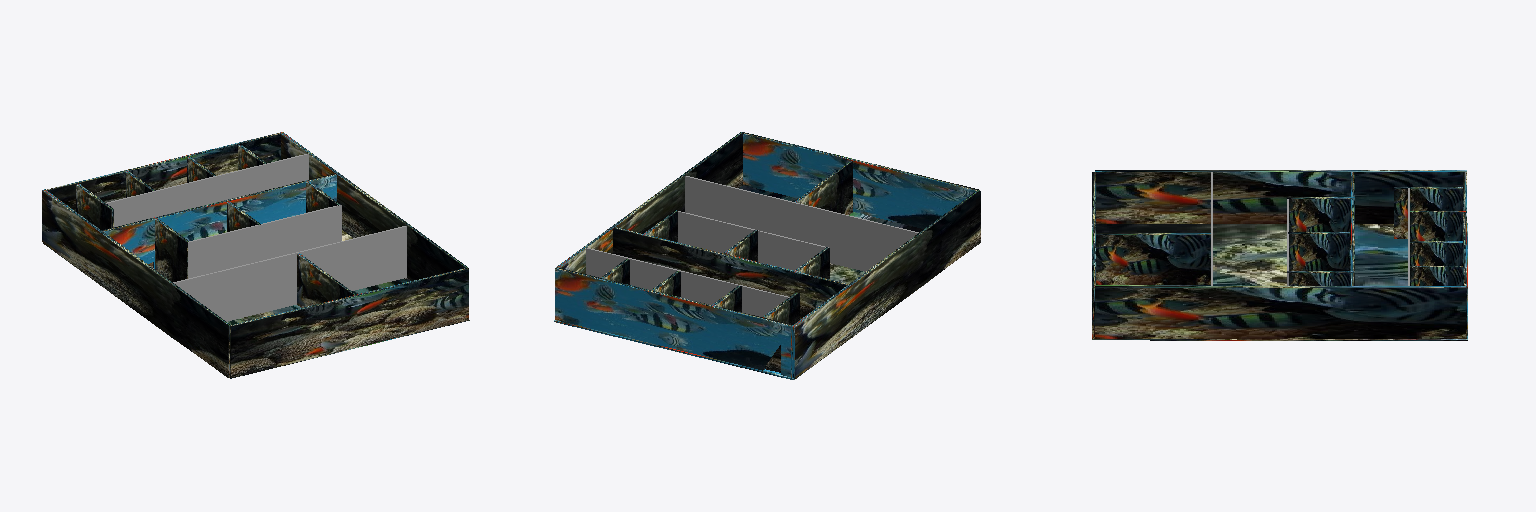
3 renders of one model, left to right at view 1: azimuth 30°, elevation 25°; view 2: azimuth 150°, elevation 25°; view 3: azimuth 270°, elevation 25°, orthographic.
Parts seen in each view (by area): view 1: pCube17, pCube2, pCube20, pCube19, pCube12, pCube21, pCube3, pCube9, pCube18, pCube14, pCube6, pCube1 (+2 smaller); view 2: pCube9, pCube2, pCube17, pCube20, pCube12, pCube3, pCube21, pCube19, pCube1, pCube18, pCube6, pCube14 (+2 smaller); view 3: pCube3, pCube2, pCube1, pCube18, pCube16, pCube14, pCube6, pCube7, pCube13, pCube8, pCube15, pCube17.
Part boxes in pixels (bbox=[...]): pCube17: bbox=[230, 268, 468, 377]; pCube2: bbox=[42, 189, 230, 377]; pCube20: bbox=[173, 226, 406, 321]; pCube19: bbox=[188, 205, 341, 278]; pCube12: bbox=[102, 174, 336, 268]; pCube21: bbox=[105, 154, 308, 226]; pCube3: bbox=[280, 132, 468, 280]; pCube9: bbox=[47, 133, 280, 210]; pCube18: bbox=[297, 253, 355, 307]; pCube14: bbox=[153, 217, 188, 281]; pCube6: bbox=[76, 184, 113, 229]; pCube1: bbox=[43, 230, 469, 378]; pCube9: bbox=[555, 268, 791, 376]; pCube2: bbox=[791, 190, 980, 378]; pCube17: bbox=[743, 132, 978, 228]; pCube20: bbox=[685, 176, 918, 271]; pCube12: bbox=[613, 227, 847, 319]; pCube3: bbox=[555, 132, 743, 273]; pCube21: bbox=[586, 248, 789, 316]; pCube19: bbox=[678, 211, 828, 270]; pCube1: bbox=[554, 185, 944, 379]; pCube18: bbox=[795, 161, 852, 214]; pCube6: bbox=[763, 292, 799, 369]; pCube14: bbox=[794, 247, 829, 278]; pCube3: bbox=[1095, 286, 1465, 338]; pCube2: bbox=[1095, 170, 1466, 223]; pCube1: bbox=[1092, 223, 1467, 340]; pCube18: bbox=[1096, 233, 1210, 284]; pCube16: bbox=[1288, 232, 1349, 270]; pCube14: bbox=[1287, 197, 1354, 249]; pCube6: bbox=[1394, 187, 1462, 238]; pCube7: bbox=[1410, 211, 1465, 240]; pCube13: bbox=[1410, 241, 1462, 265]; pCube8: bbox=[1410, 266, 1462, 285]; pCube15: bbox=[1287, 271, 1354, 285]; pCube17: bbox=[1092, 172, 1095, 338].
Size of the model in its own units: 19.92 by 4.25 by 27.
Materials: 2 (1 with a texture image).